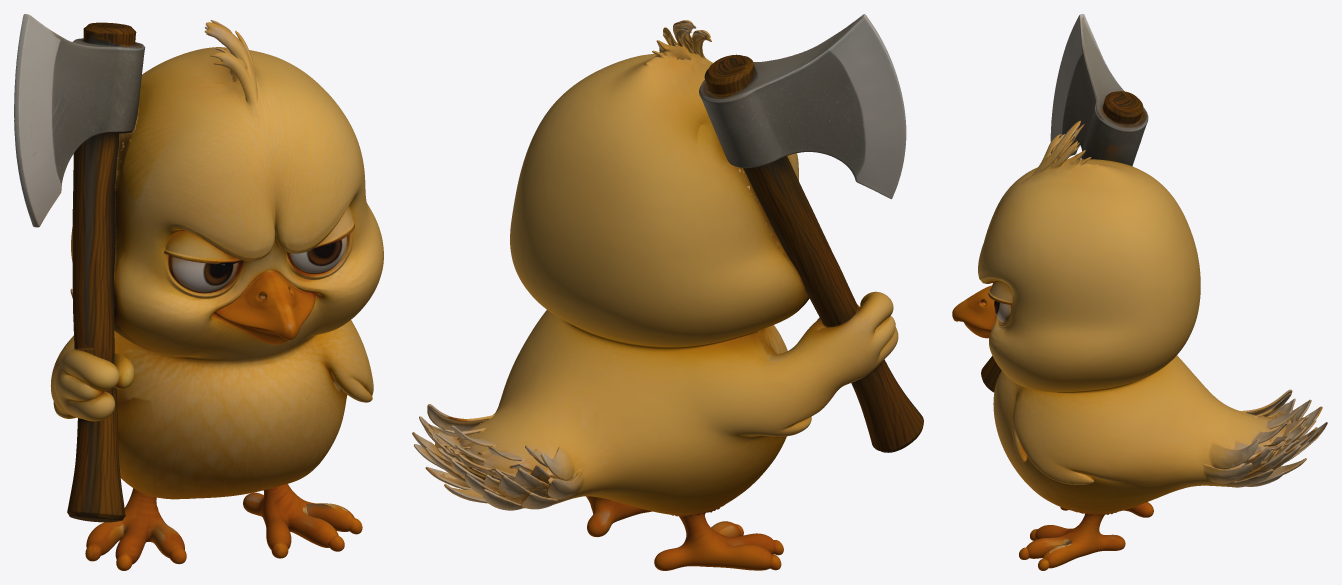
File: wings_of_freedom-chicken-3460.glb
3 views of the same model, side by side, from view 1: azimuth 30°, elevation 25°; view 2: azimuth 150°, elevation 25°; view 3: azimuth 270°, elevation 25° (orthographic). The views are drawn at different scales.
Visible parts, largest first — view 1: texture_pbr_v128; view 2: texture_pbr_v128; view 3: texture_pbr_v128.
Part boxes in pixels (box(x1,y1,x2,y2)): texture_pbr_v128: box(14, 14, 383, 570); texture_pbr_v128: box(412, 14, 923, 570); texture_pbr_v128: box(952, 14, 1327, 570).
Size of the model in its own units: 0.6654 by 0.9982 by 0.7679.
1 material, 1 textured.
